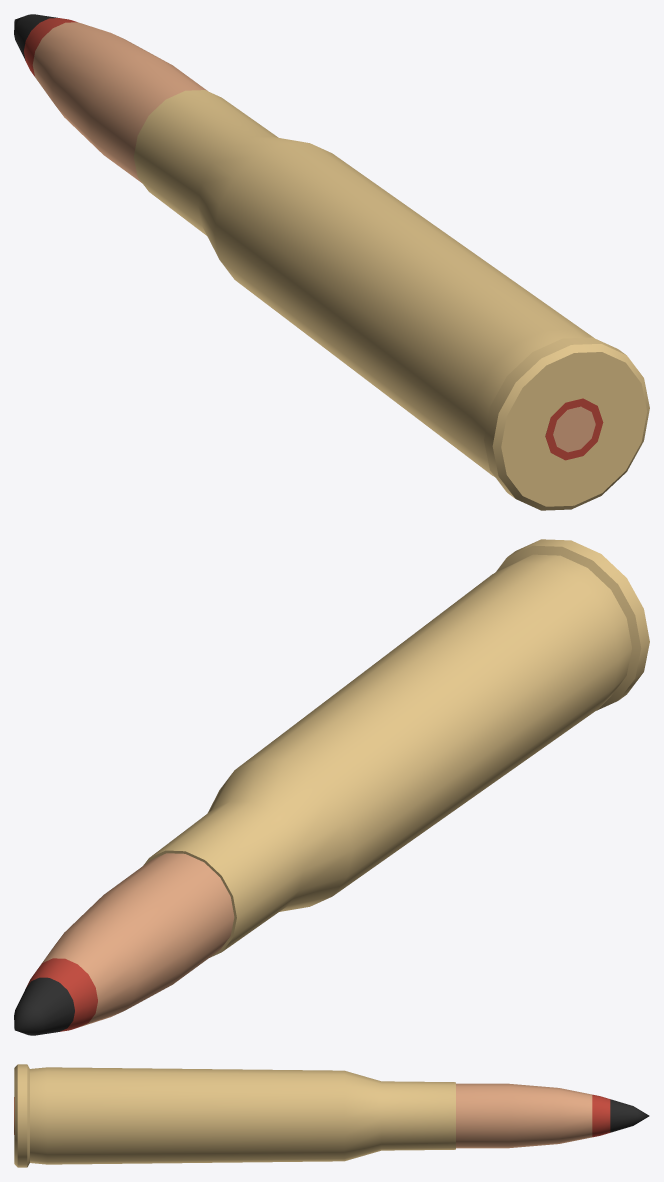
The model's file is round_762r_ap.glb.
3 renders of one model, top to bottom at view 1: azimuth 30°, elevation 25°; view 2: azimuth 150°, elevation 25°; view 3: azimuth 270°, elevation 25°, orthographic. The views are drawn at different scales.
Visible parts, largest first — view 1: body; view 2: body; view 3: body.
Boxes of the visible parts, x1,y1,x2,y2 form: body: [14, 14, 649, 510]; body: [14, 539, 649, 1035]; body: [14, 1064, 649, 1167].
Size of the model in its own units: 0.0125 by 0.0125 by 0.077.
